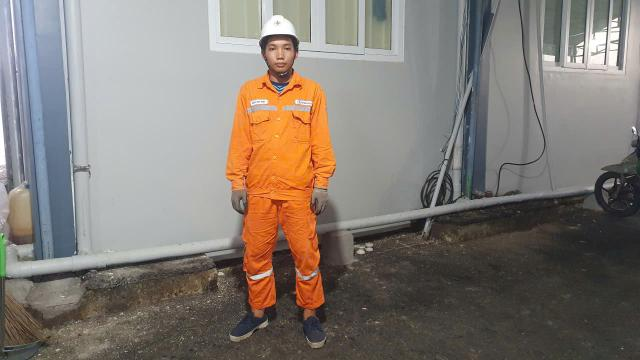gloves: (306, 180, 348, 220), (223, 184, 257, 224)
helmet: (248, 12, 310, 52)
shoes: (292, 302, 341, 354), (221, 306, 284, 340)
